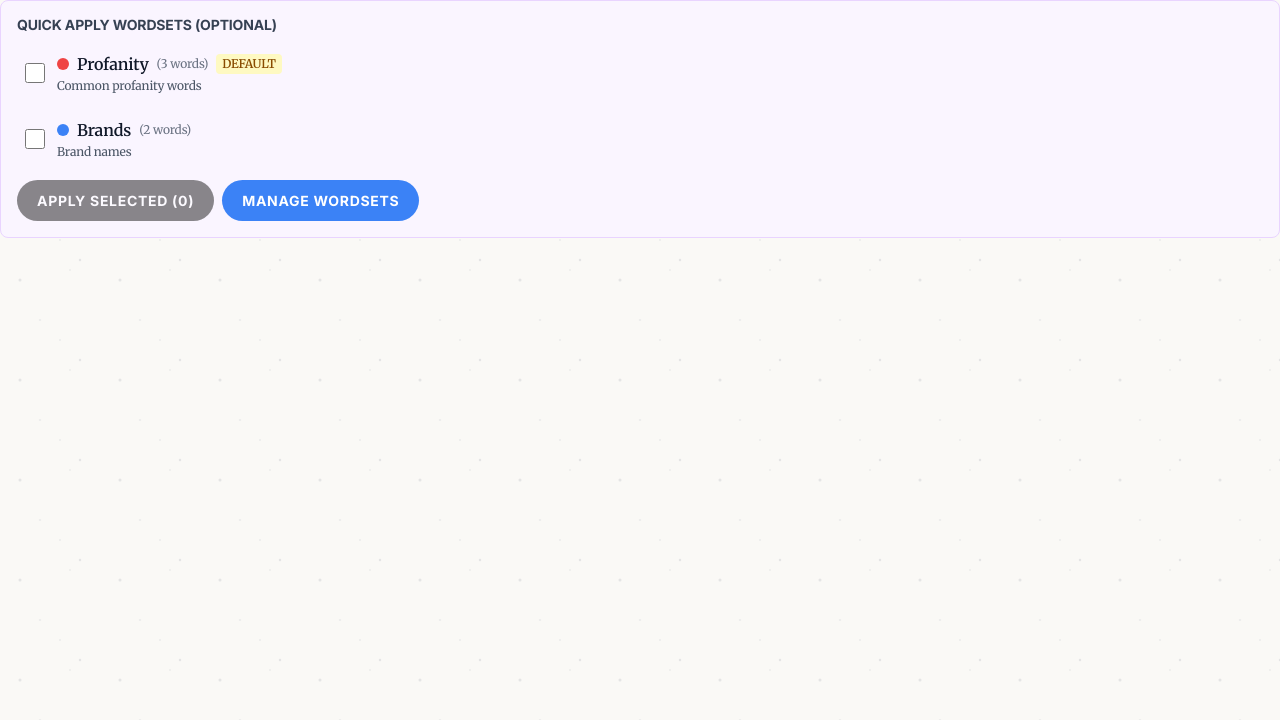
Test: WordsetSelector › enables apply button when wordsets selected
This screenshot has width=1280, height=720.
Step 1. Click the checkbox with test id "wordset-checkbox-1" → (35, 73), box [25,63,45,83]
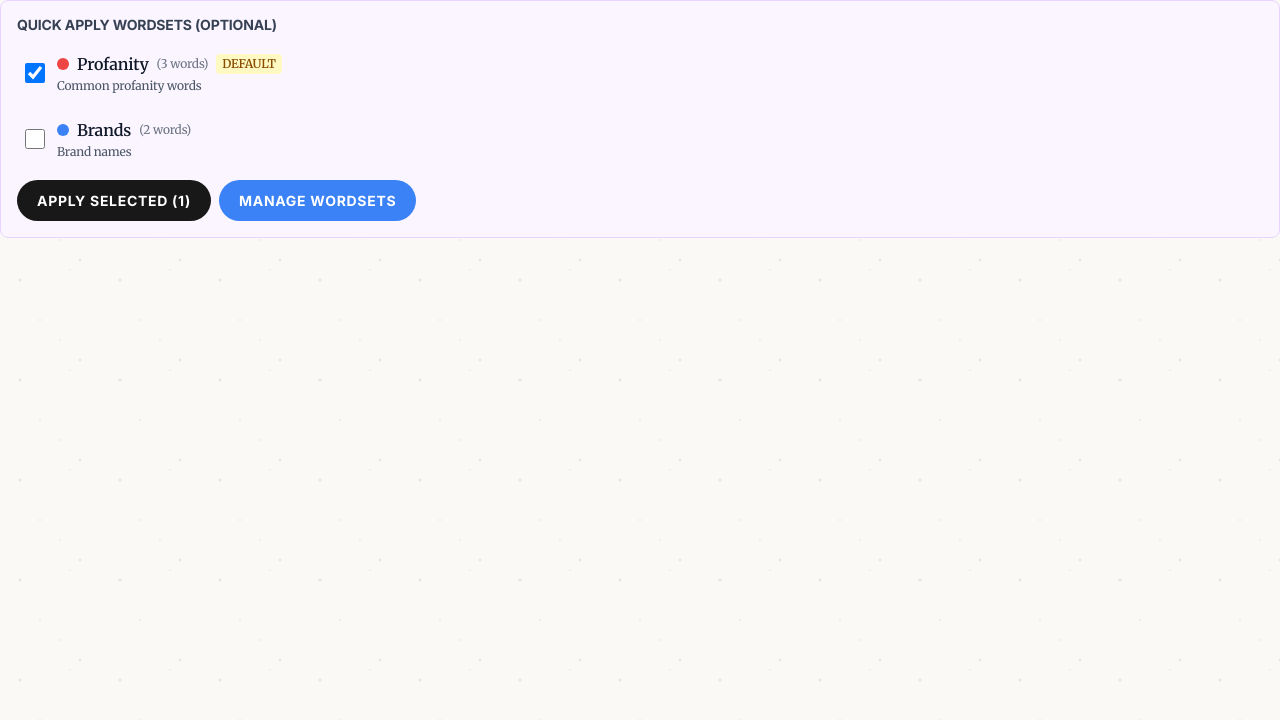
Now the button with test id "apply-wordsets-button" is enabled, box [17,180,211,221]
